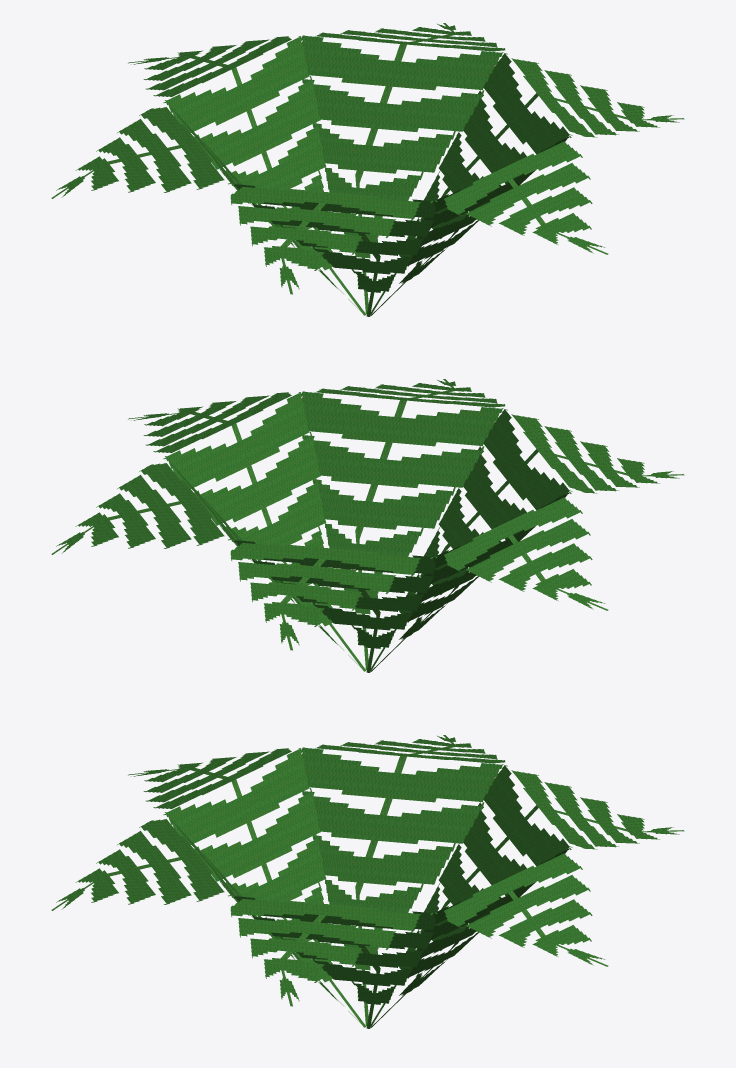
File: samambaia_da_floresta.glb
The picture shows the model from 3 angles, top to bottom: view 1: azimuth 30°, elevation 25°; view 2: azimuth 150°, elevation 25°; view 3: azimuth 270°, elevation 25°; orthographic projection.
Visible parts, largest first — view 1: samambaia_da_floresta; view 2: samambaia_da_floresta; view 3: samambaia_da_floresta.
Boxes of the visible parts, bbox=[...] form: samambaia_da_floresta: bbox=[51, 23, 684, 316]; samambaia_da_floresta: bbox=[51, 379, 684, 672]; samambaia_da_floresta: bbox=[51, 735, 684, 1028].
Bounding box in the file's own units: 1.37 × 0.42 × 1.35.
Materials: 1 (1 with a texture image).
